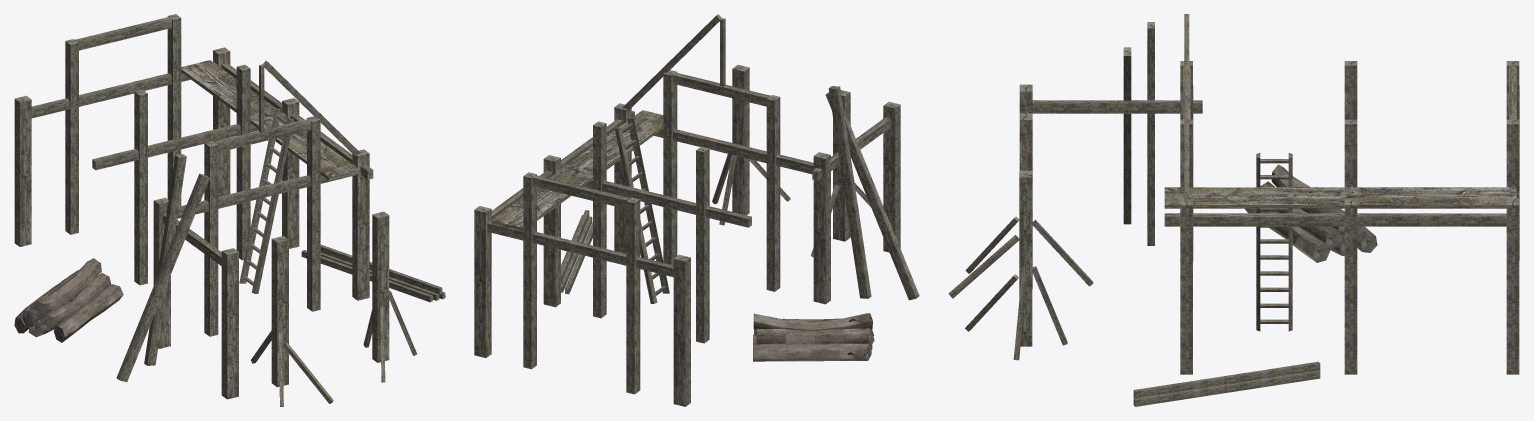
File: ConstructionSite_LOD01.fbx
The picture shows the model from 3 angles, left to right: view 1: azimuth 30°, elevation 25°; view 2: azimuth 150°, elevation 25°; view 3: azimuth 270°, elevation 25°; orthographic projection. The views are drawn at different scales.
Visible parts, largest first — view 1: Mesh Object; view 2: Mesh Object; view 3: Mesh Object.
Part boxes in pixels (x1,y1,x2,y2): Mesh Object: (14,14,445,406); Mesh Object: (474,14,919,406); Mesh Object: (948,14,1519,406).
Size of the model in its own units: 7.39 by 5.17 by 8.77.
